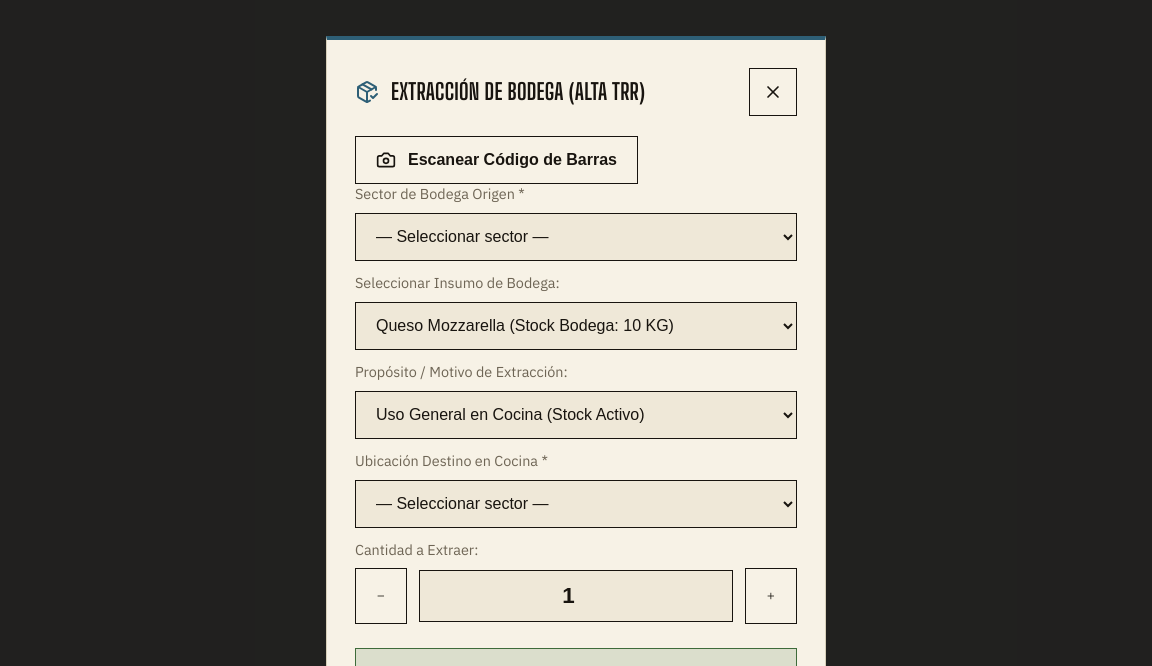
TK-119-FE: WarehouseExtractionModal — escaneo de código de barras (US-032) › escaneo sin match muestra ErrorBanner no bloqueante y el selector manual sigue disponible
This screenshot has width=1152, height=666.
Click the button "Escanear Código de Barras" at (496, 160), box [355,136,638,184]
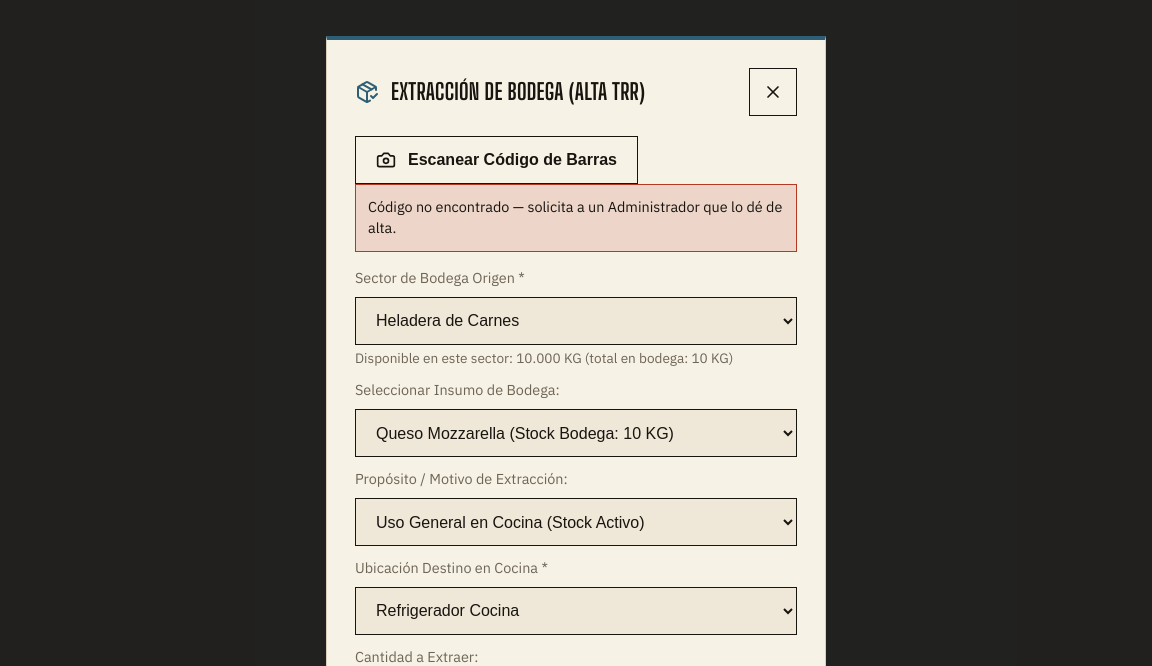
Expected: the dropdown labelled "Seleccionar Insumo de Bodega:" is shown, [355,409,797,457]
Now the text "Código no encontrado" is shown, box [368,197,782,237]
